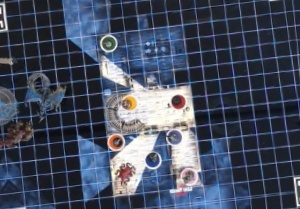blue: (141, 147, 164, 170)
green: (99, 32, 119, 53)
orange: (106, 130, 128, 152)
pink: (179, 164, 200, 188)
red: (168, 90, 189, 111)
violet: (164, 125, 182, 146)
yellow: (120, 92, 138, 111)
